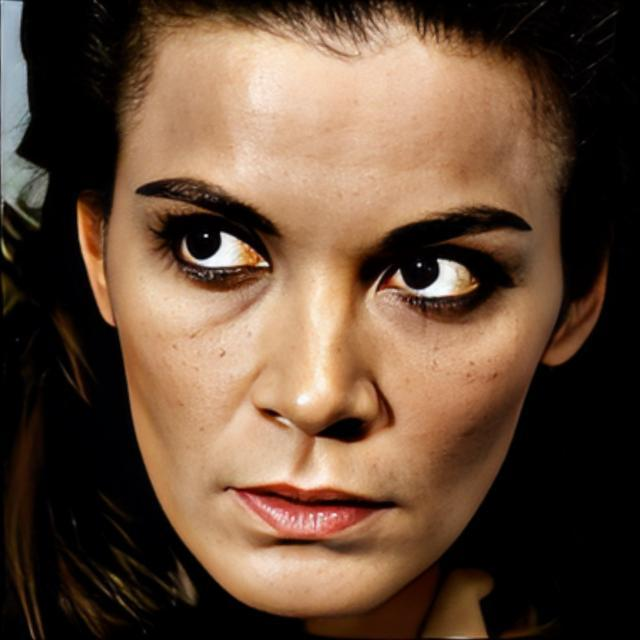anger: (116, 31, 546, 622)
